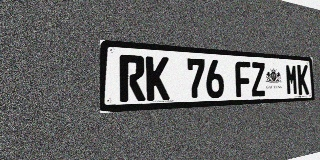6: (206, 59, 224, 98)
7: (186, 58, 206, 99)
F: (235, 61, 251, 97)
K: (146, 56, 170, 101), (297, 65, 309, 95)
M: (285, 64, 298, 95)
R: (119, 54, 145, 102)
Z: (251, 62, 266, 97)
